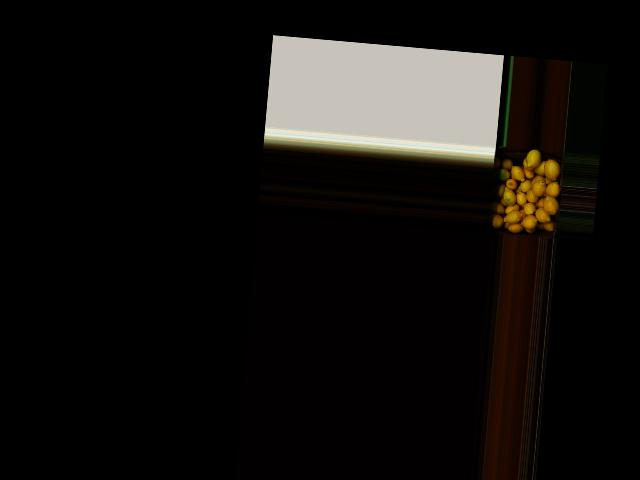lemon: (518, 180, 531, 192)
